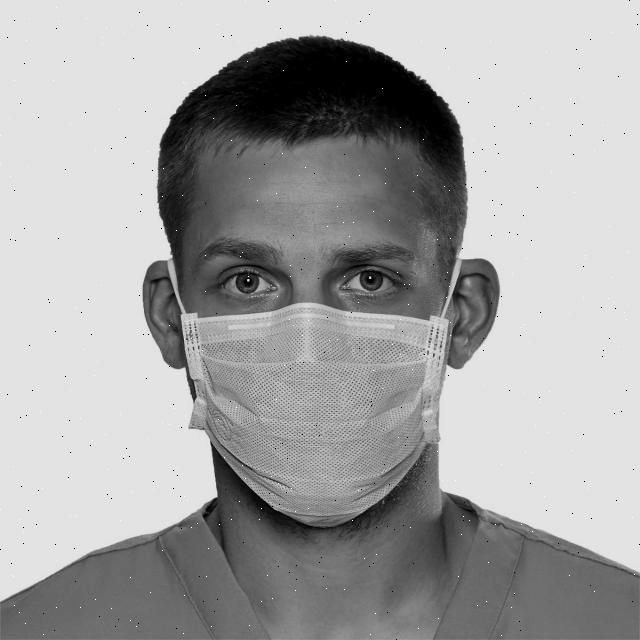fake: (178, 308, 452, 532)
real: (183, 135, 452, 531)
